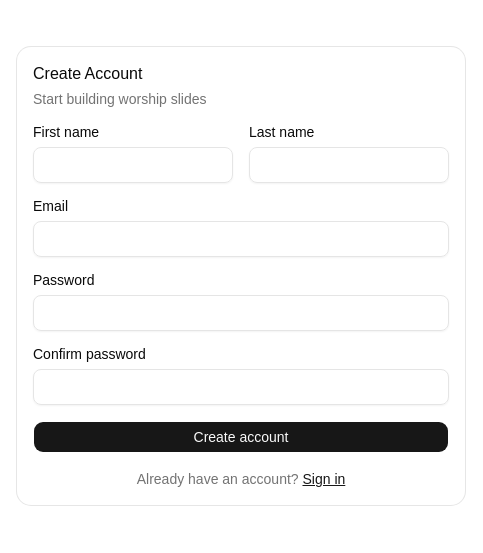
Test: SignupPage › shows server errors
Type "Jay" into the field labelled "First name" at point(133, 165), box left=33, top=147, right=233, bottom=183
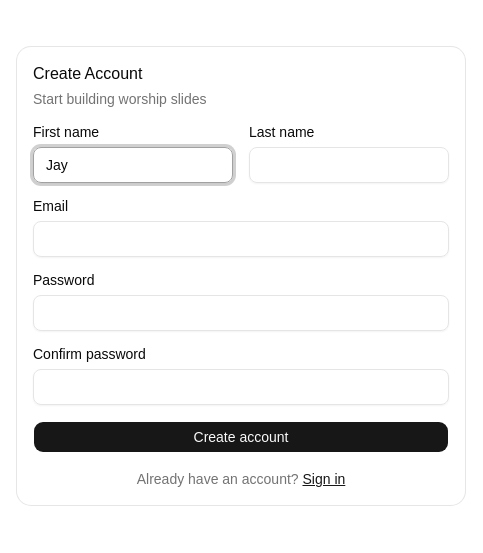
Type "Ray" into the field labelled "Last name" at point(349, 165), box left=249, top=147, right=449, bottom=183
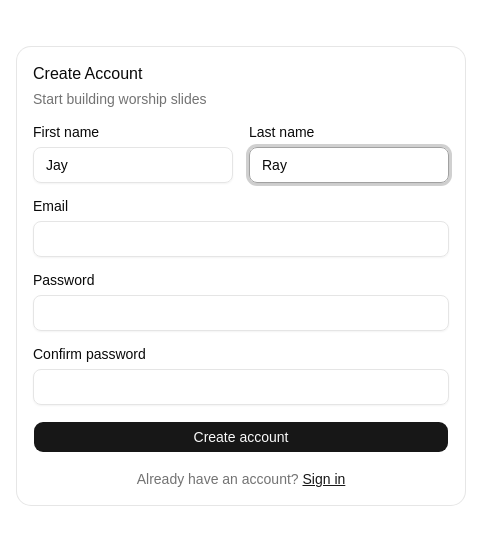
Type "jay@example.com" into the field labelled "Email" at point(241, 239), box left=33, top=221, right=449, bottom=257
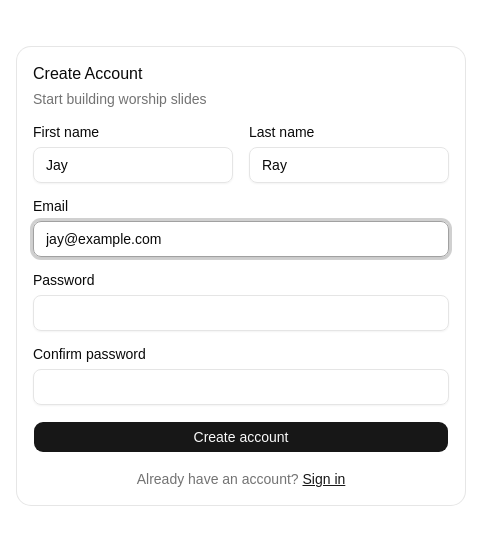
Type "secret1" into the password field labelled "Password" at point(241, 313), box left=33, top=295, right=449, bottom=331
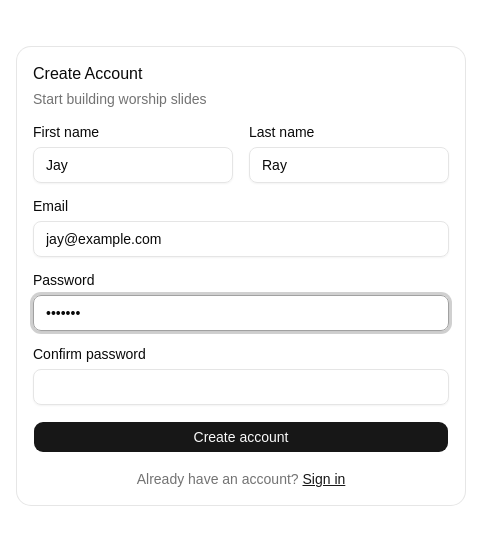
Type "secret1" into the password field labelled "Confirm password" at point(241, 387), box left=33, top=369, right=449, bottom=405
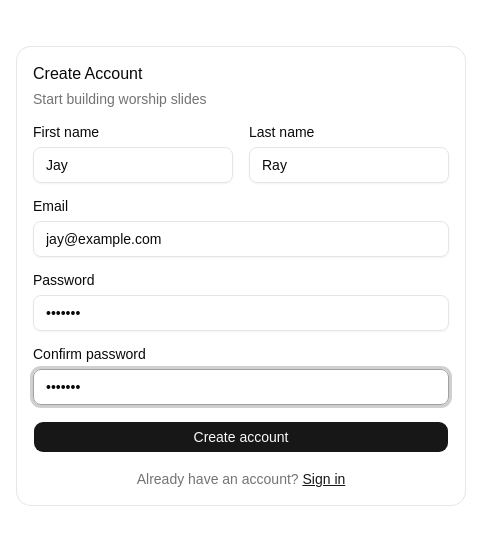
Click the button "Create account" at point(241, 437), box left=33, top=421, right=449, bottom=453
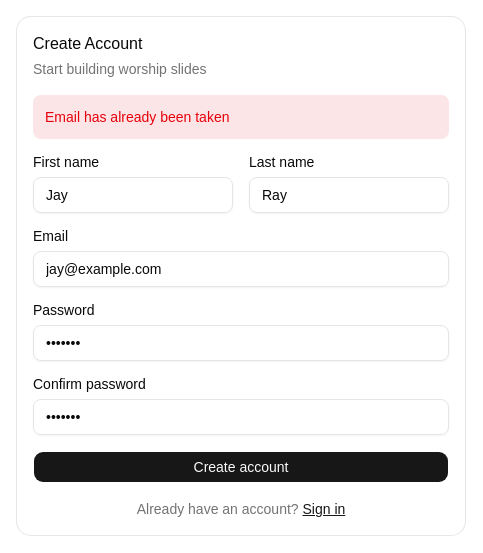
Check: the text "Email has already been taken" is shown, box left=33, top=95, right=449, bottom=139
